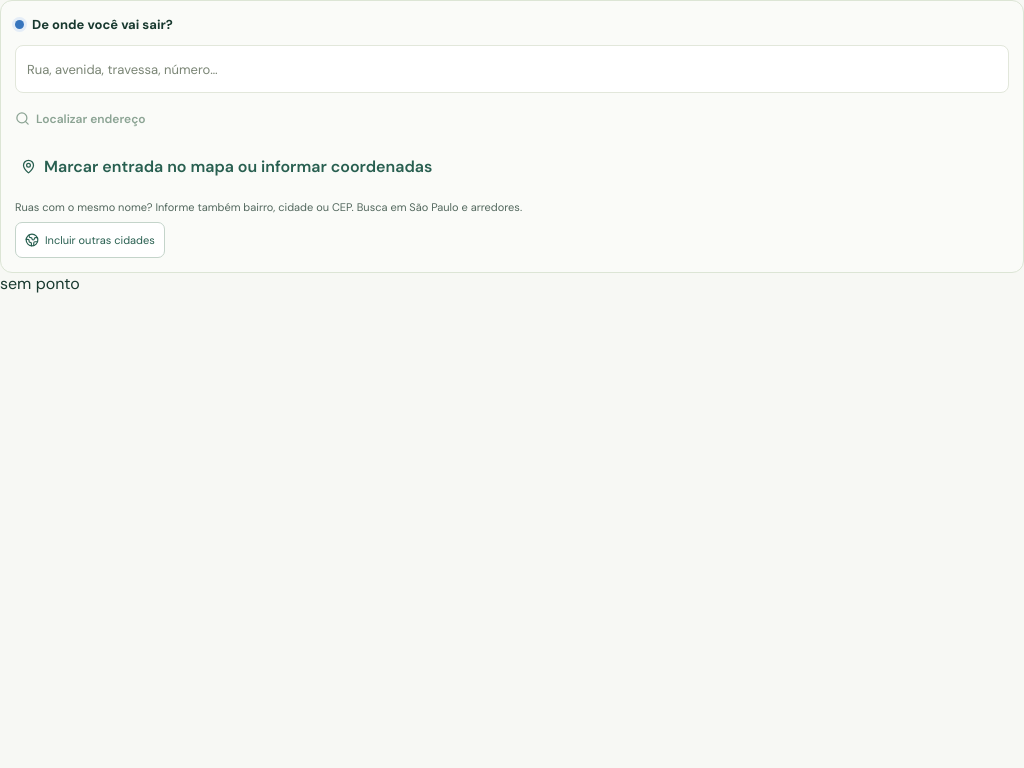
it: exige confirmação do ponto aproximado e mostra marcação como texto
The image size is (1024, 768).
Type "Rua Teste, 42" into the dropdown labelled "De onde você vai sair?" at (512, 68), box [16,46,1008,92]
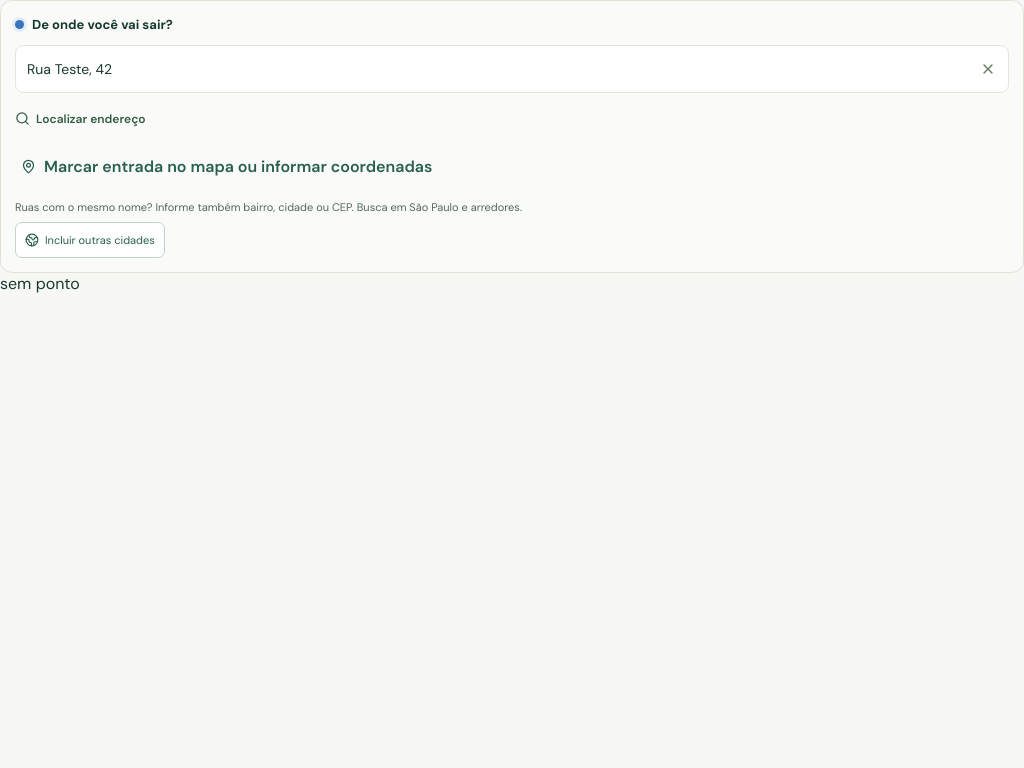
Click the button with aria-label "Localizar origem" at (80, 114), box [15,92,146,136]
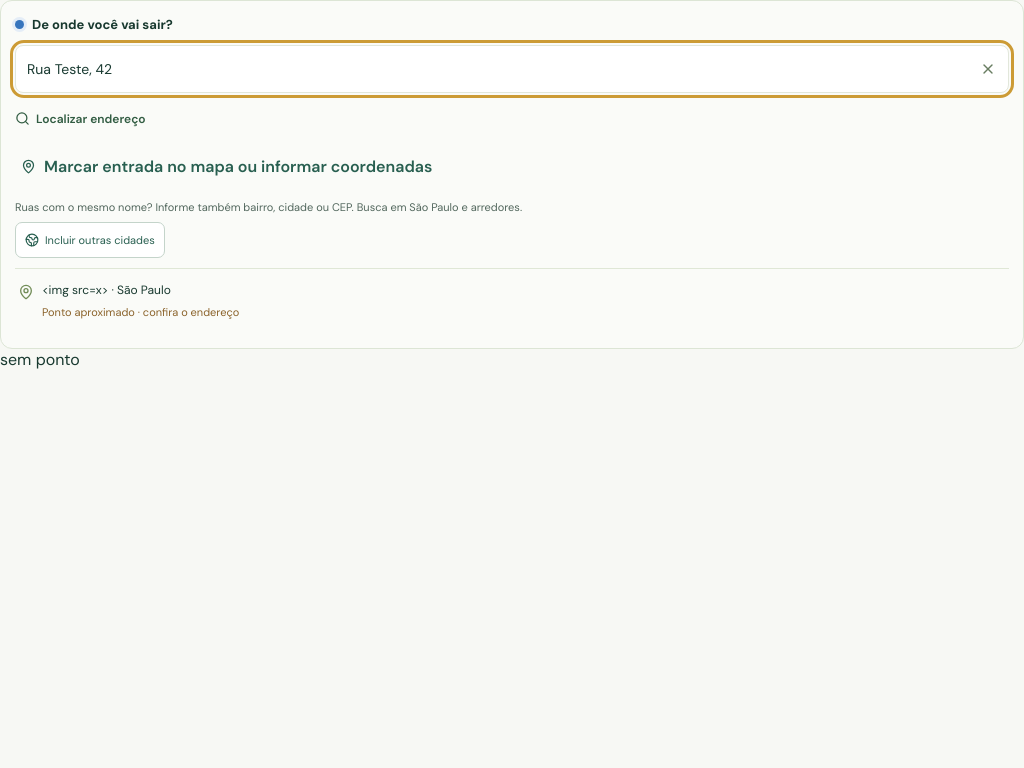
Click the option "<img src=x>" at (106, 290), box [15,269,1009,334]
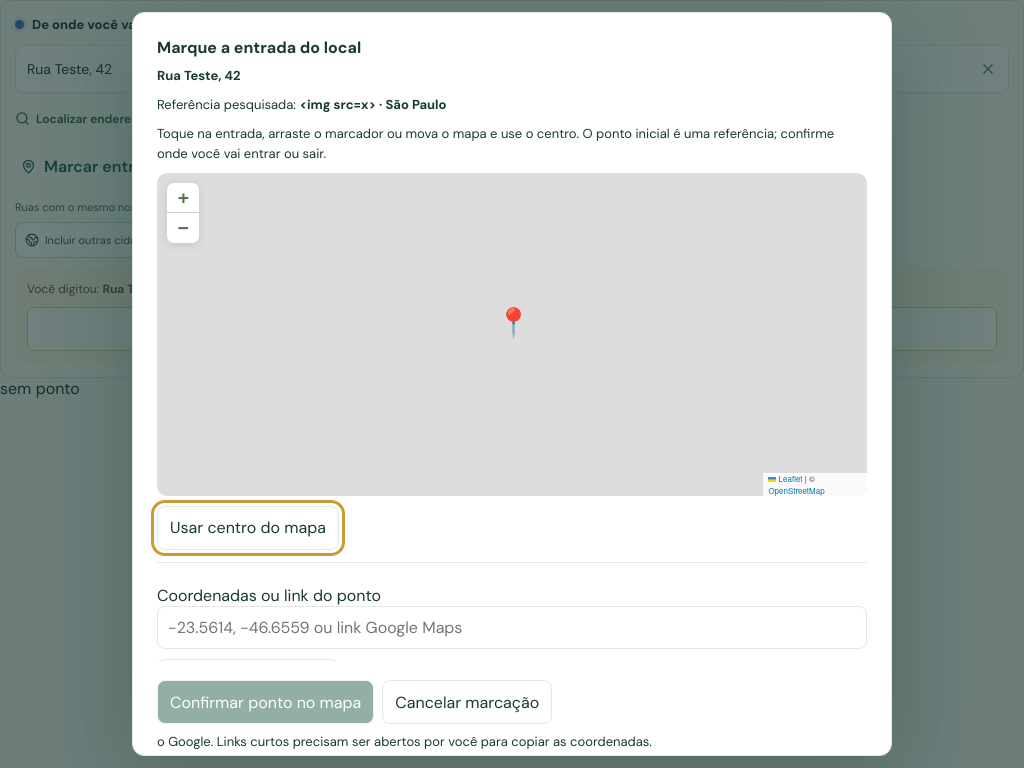
Expected: the text "sem ponto" is shown, [0,378,80,399]
Click the button "Usar centro do mapa" at (248, 528), box [157,506,339,550]
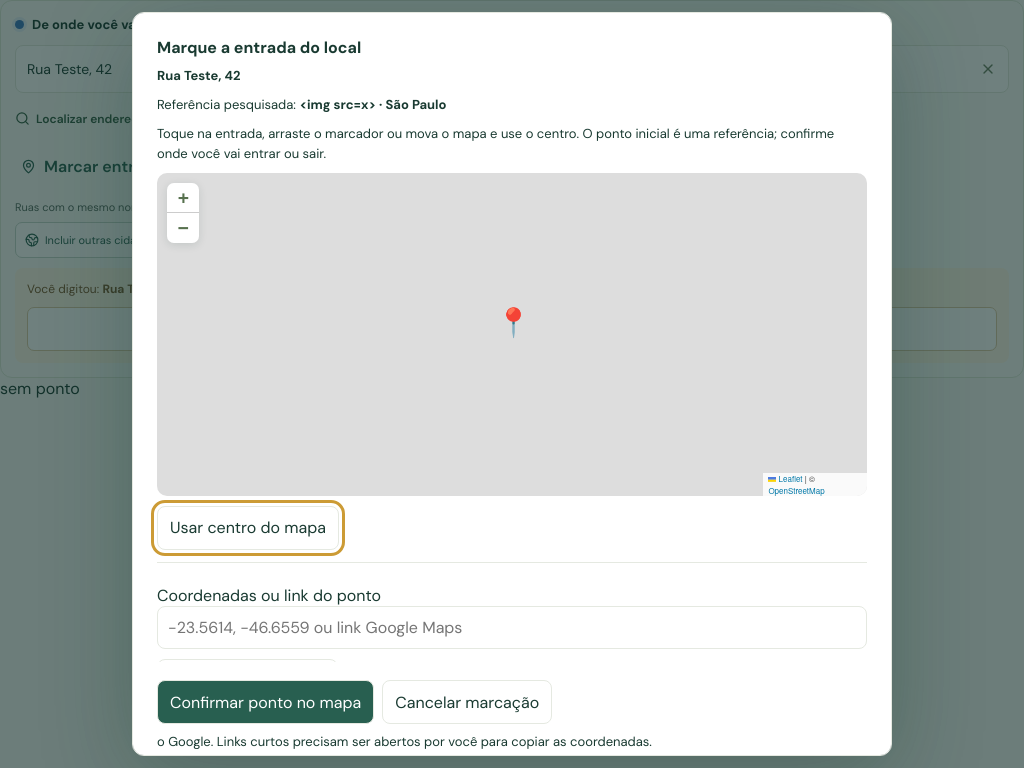
Click the button "Confirmar ponto no mapa" at (266, 702), box [157,680,374,724]
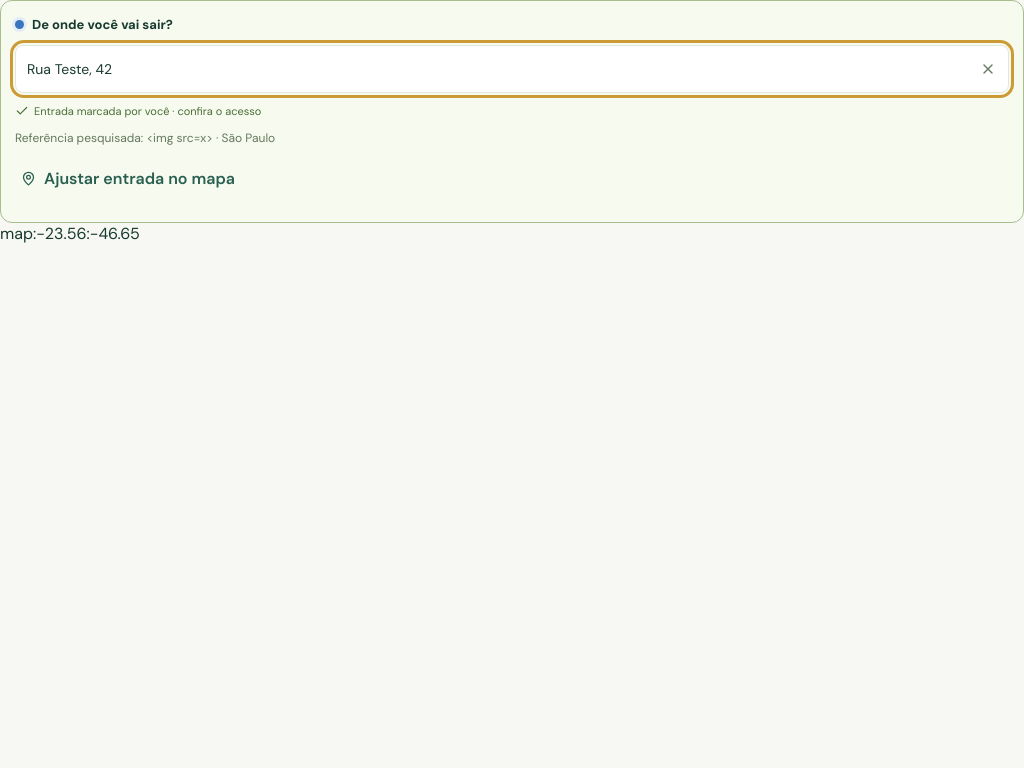
Now the text "map:-23.56:-46.65" is shown, box [0,223,140,244]
